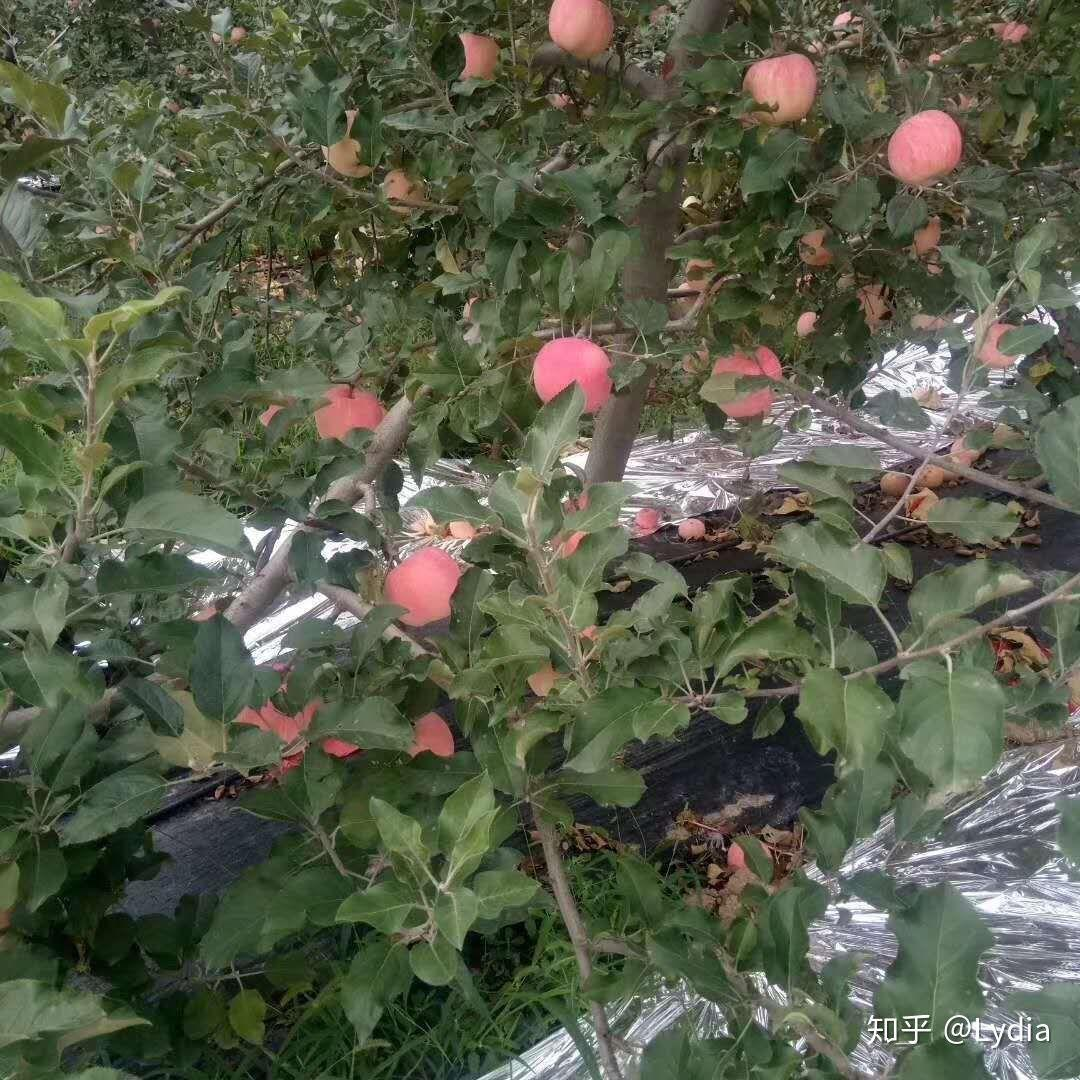apple: (527, 334, 613, 415), (384, 547, 461, 627), (706, 344, 783, 423), (881, 108, 962, 182), (742, 49, 816, 128), (312, 380, 385, 444), (548, 5, 622, 64)
